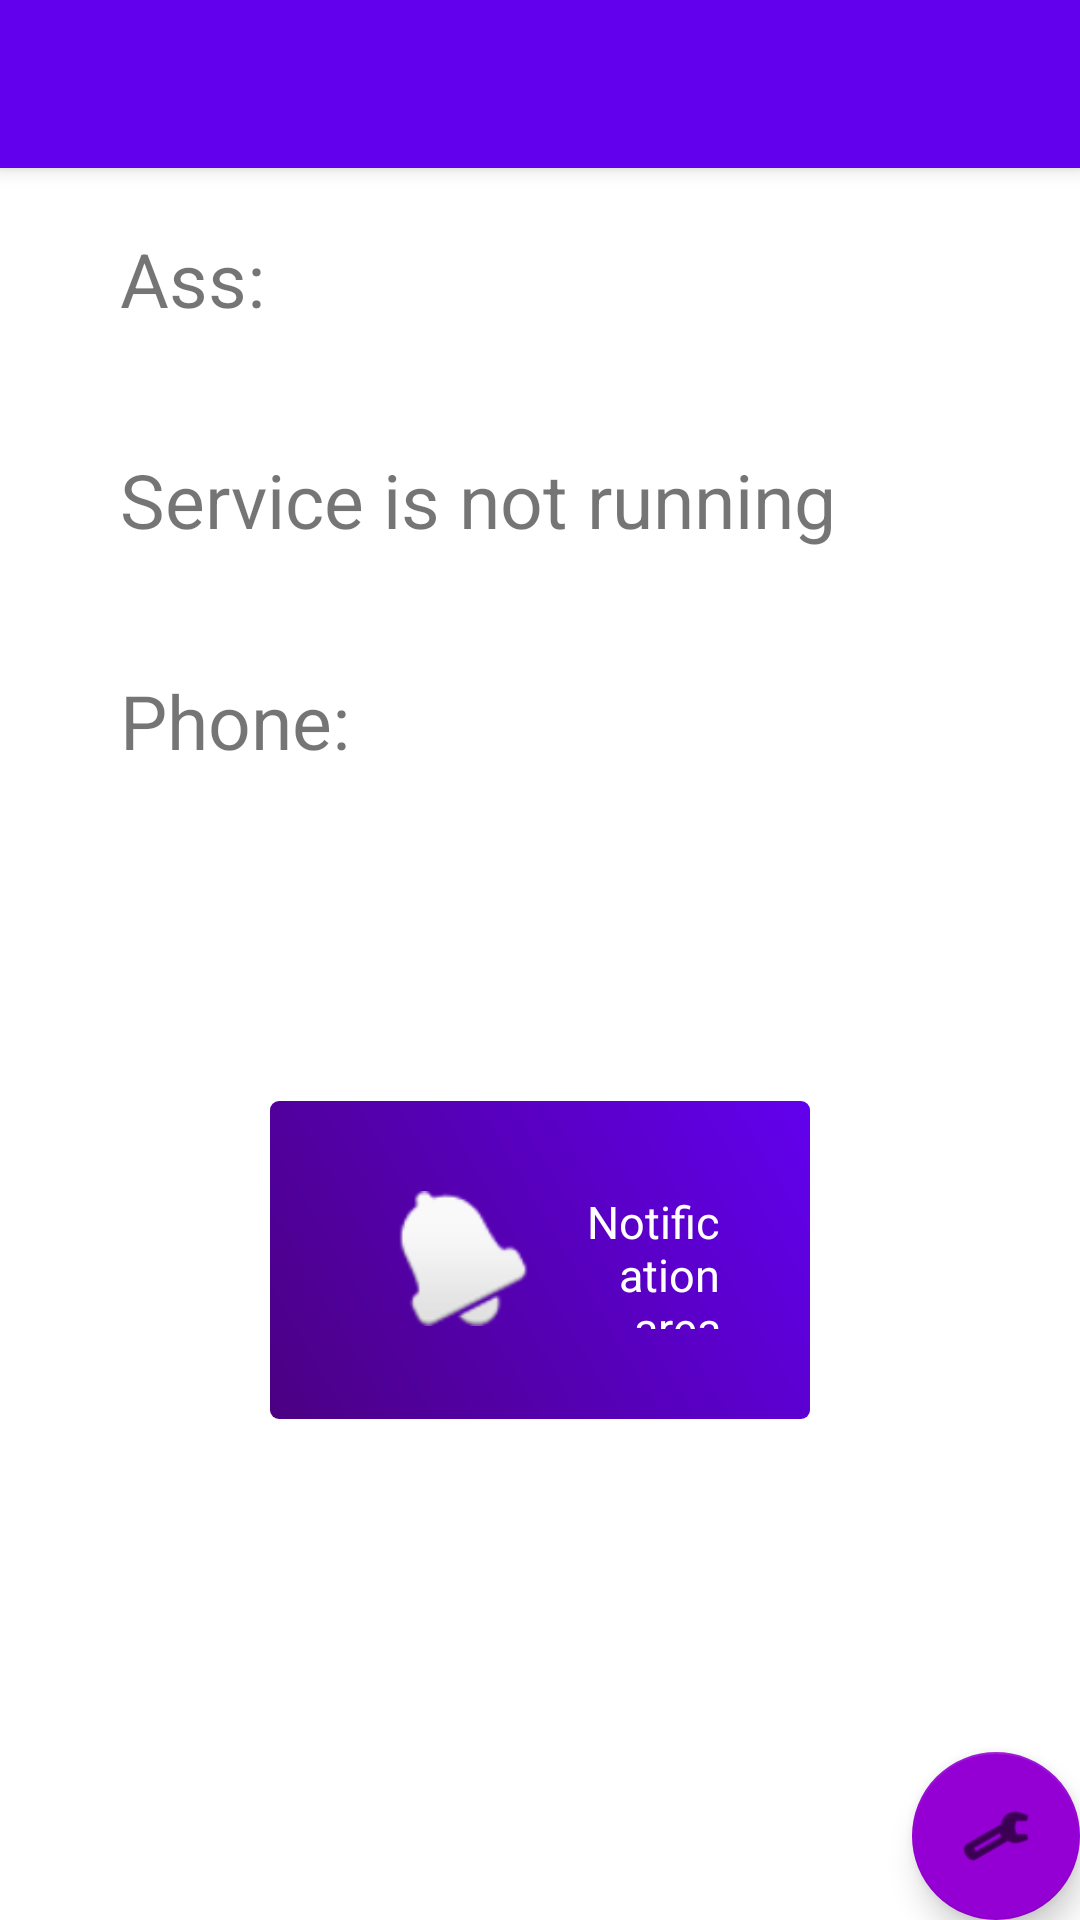

Locate icon controls on the screen. Image size 1080*1920, boxes as (x1, y1, x2, y2).
popup reminder: (400, 1191, 582, 1326)
preferences: (912, 1752, 1080, 1920)
